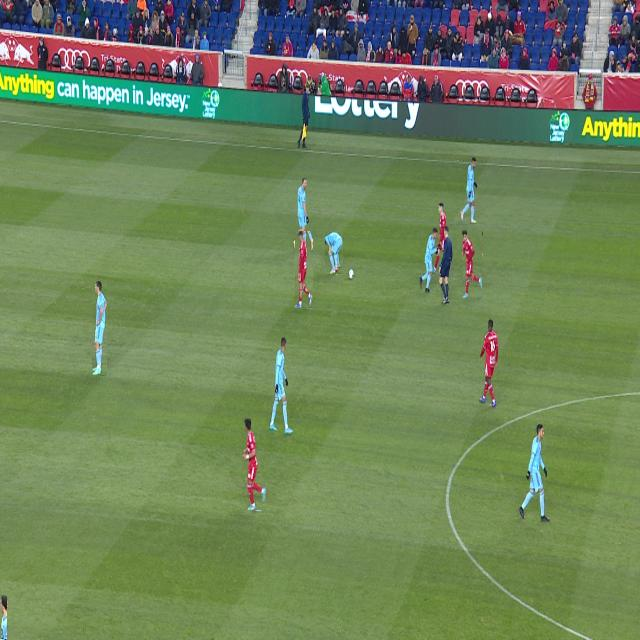football: (348, 269, 354, 279)
player: (519, 424, 550, 522), (269, 338, 293, 434), (243, 418, 266, 510), (479, 319, 499, 407), (295, 231, 313, 308), (93, 281, 107, 375), (420, 228, 440, 293), (463, 231, 482, 299), (293, 177, 309, 251), (460, 157, 477, 223), (433, 203, 446, 273), (325, 233, 343, 274), (0, 596, 7, 639)
referee: (439, 226, 452, 305)
